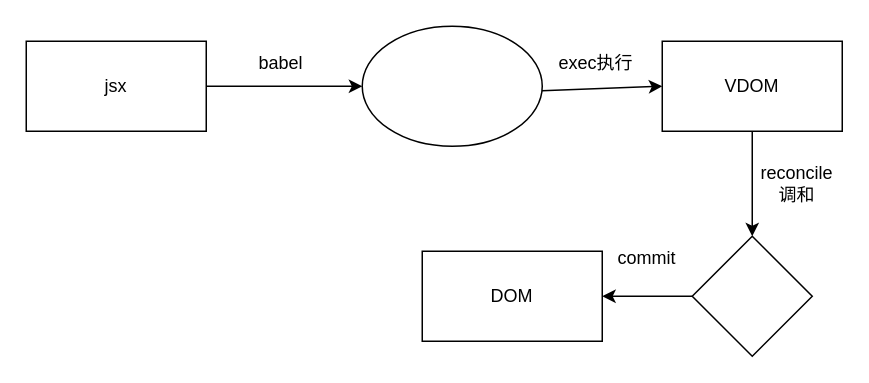
The diagram is 869 pixels wide and 383 high, and some of its shapes have lost their labels. Here are the shapes that lost their labels. From the top down, the centre of each, then its label:
At pixel 451 85: "render function".
At pixel 751 295: "fiber".
